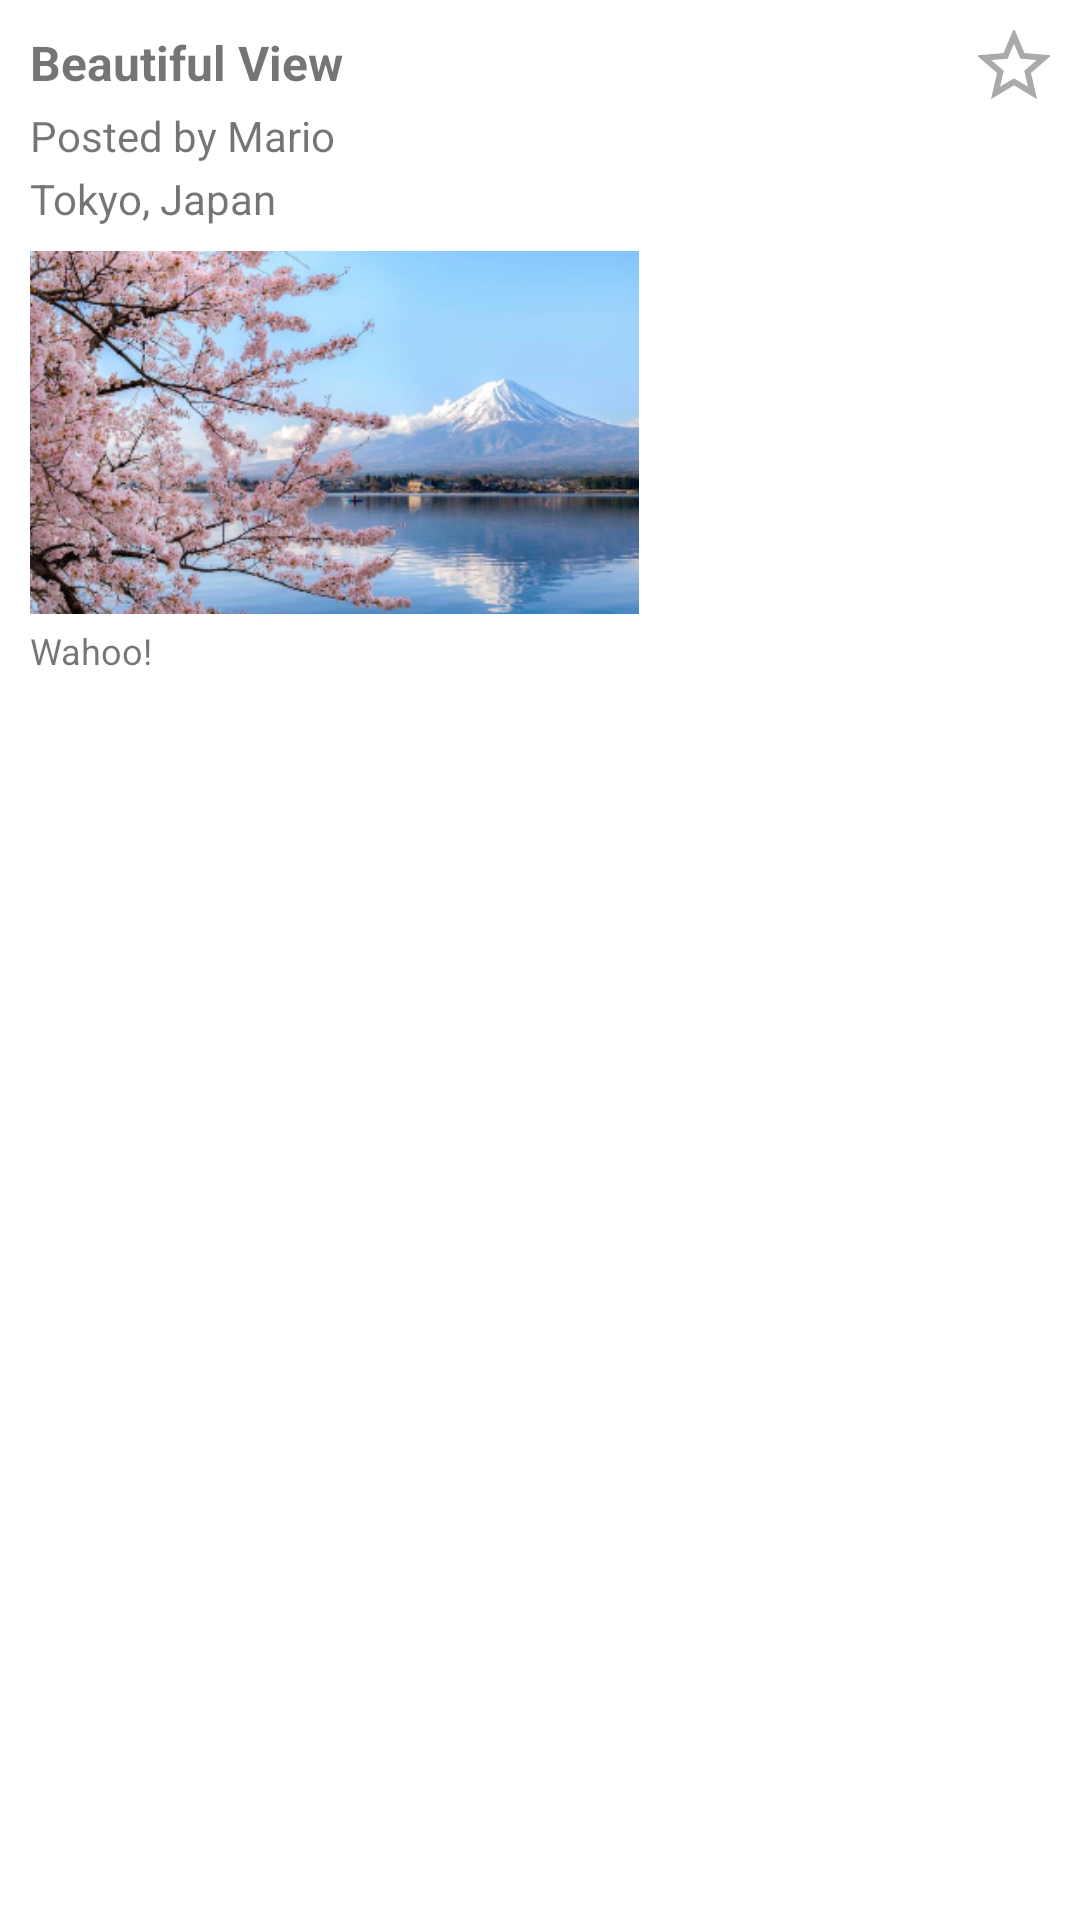

Icon bounding boxes for this 1080*1920 phone screenshot, format [x1=x1, y1=y1, x2=x2, y2=y2]:
Favorite: [x1=978, y1=30, x2=1050, y2=99]
